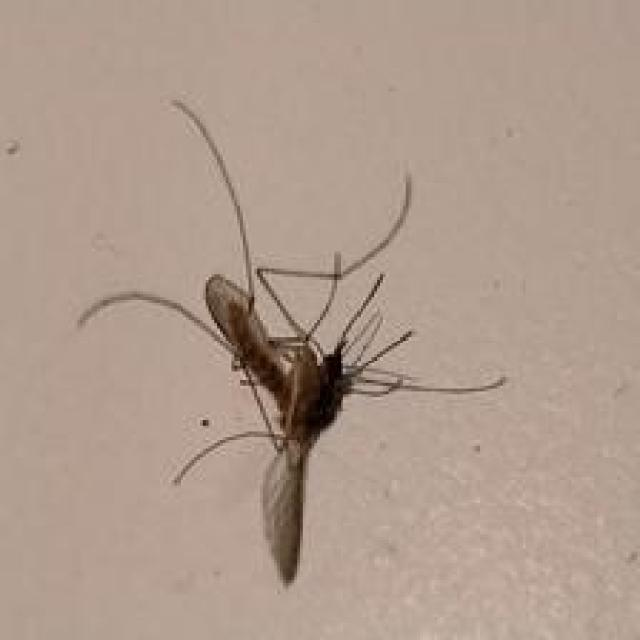Culex: (76, 97, 507, 589)
